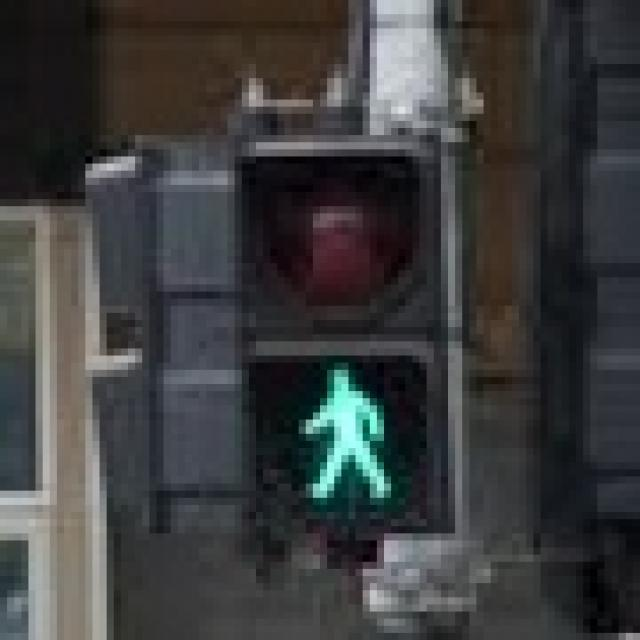geen-crossing: (270, 341, 406, 519)
